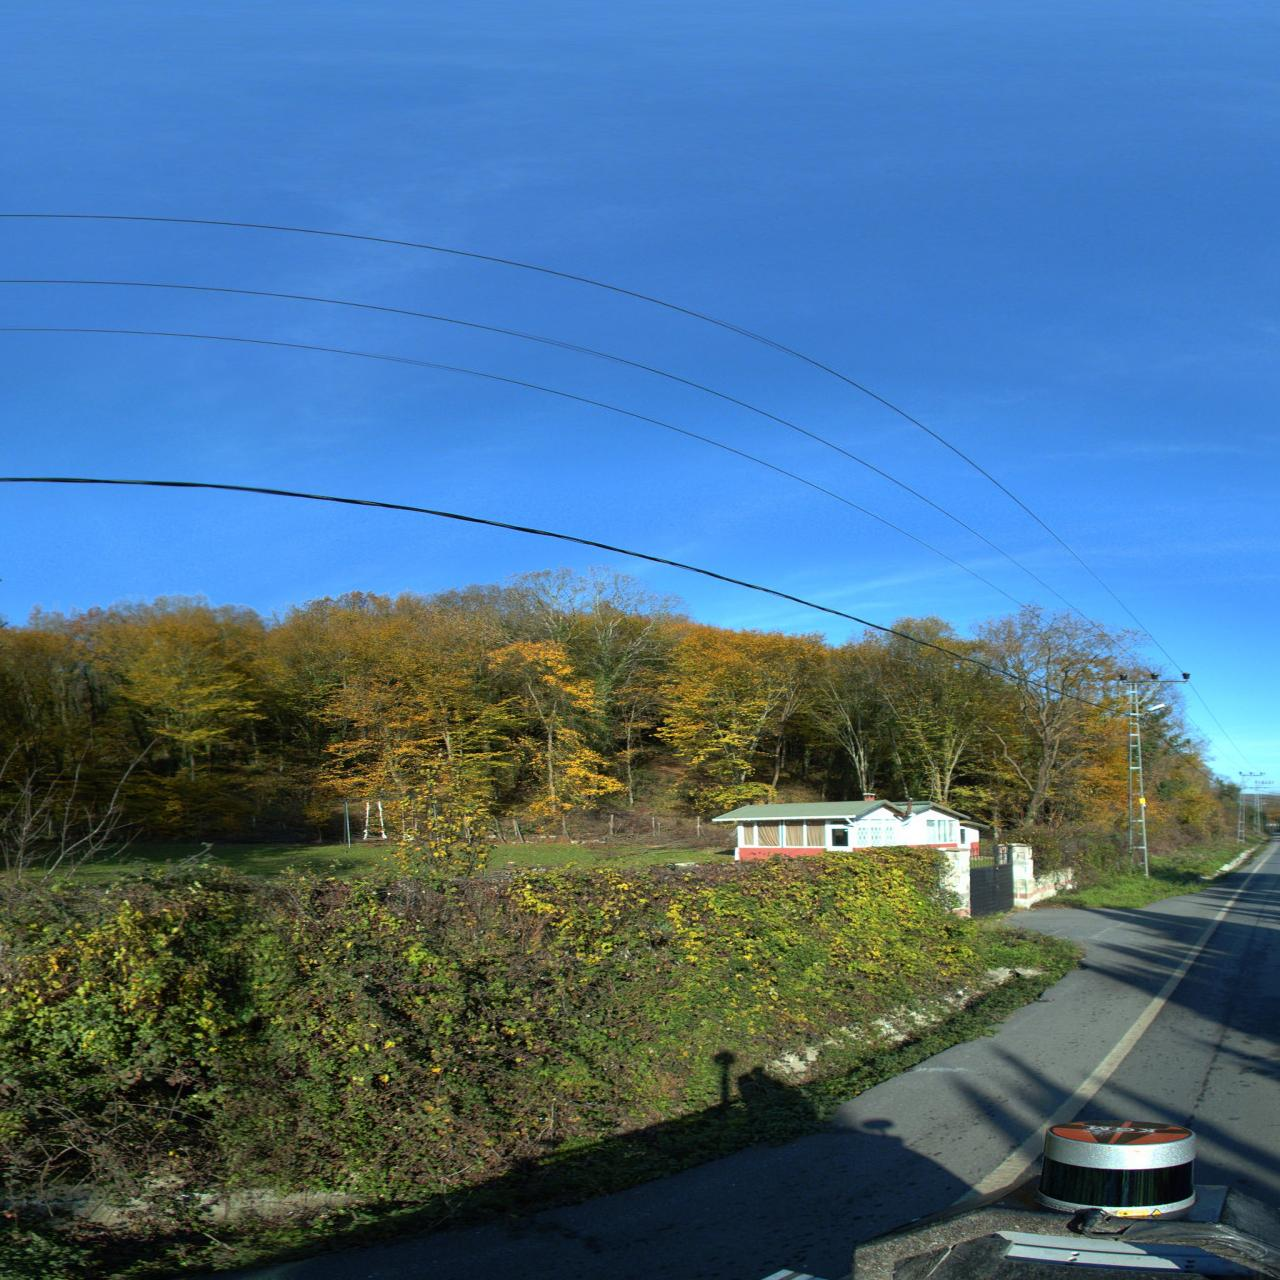Utility Pole Information Plate: (1138, 798, 1146, 804)
